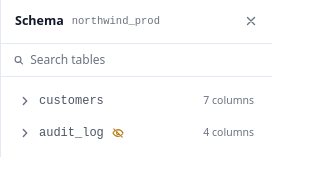
Scenario: SchemaPanel › narrows the list as the reader types
The image size is (320, 174).
In the field labelled "Search tables": (145,60) [30,52,260,68], type "audit"
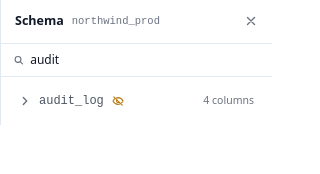
expect the text "audit_log" is shown: met, box [39,93,104,109]
expect the button "customers" is gone: met
